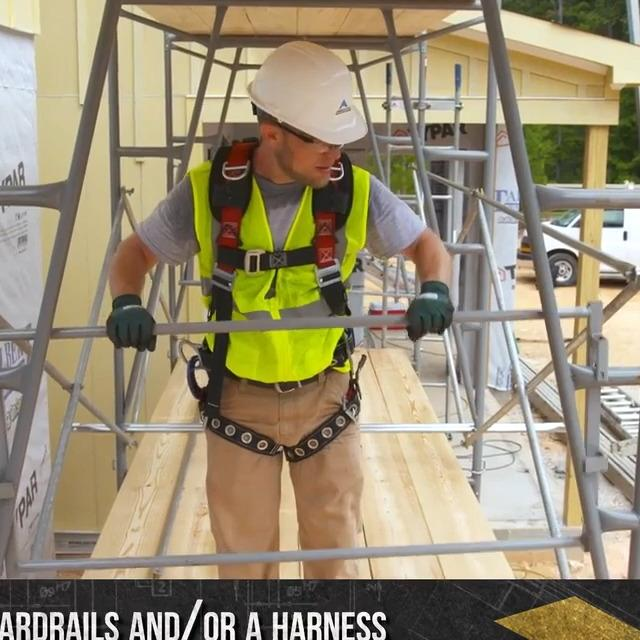Gloves: (403, 283, 457, 343), (103, 294, 155, 351)
NO-Hardhat: (245, 40, 371, 147)
NO-Mask: (291, 151, 333, 184)
NO-Safety Vest: (189, 163, 371, 377)
Person: (102, 41, 454, 577)
